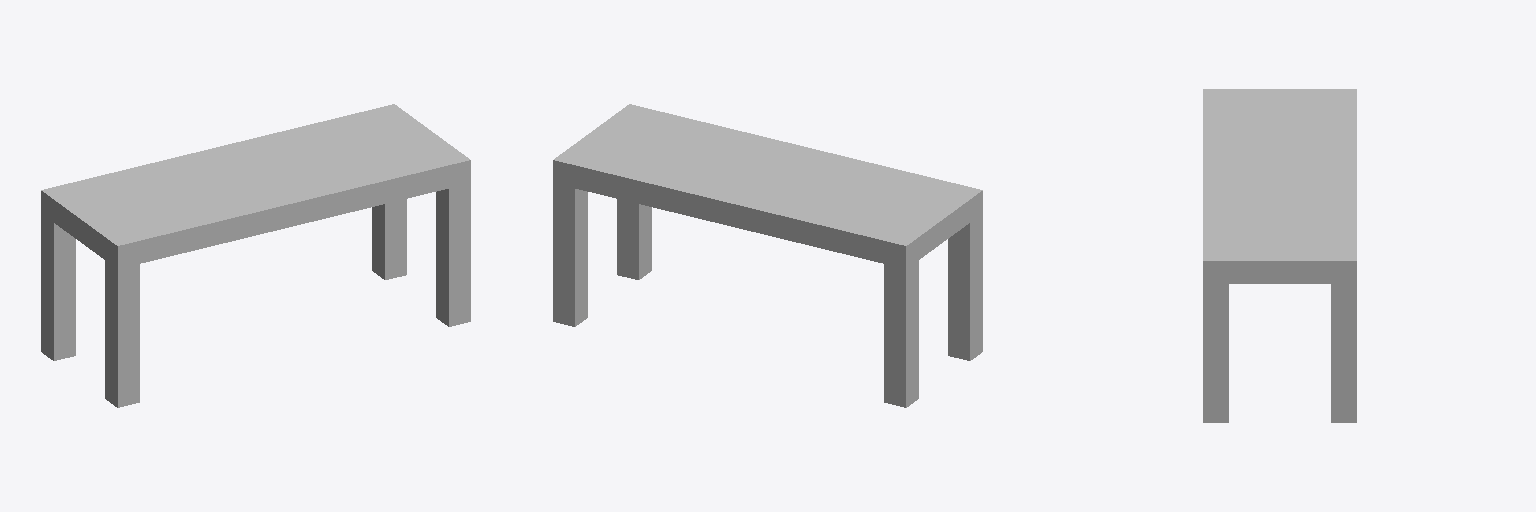
Rendered from Table.obj.
The picture shows the model from 3 angles: view 1: azimuth 30°, elevation 25°; view 2: azimuth 150°, elevation 25°; view 3: azimuth 270°, elevation 25°; orthographic projection.
Visible parts, largest first — view 1: Table; view 2: Table; view 3: Table.
Part boxes in pixels (bbox=[...]): Table: bbox=[41, 104, 470, 407]; Table: bbox=[553, 104, 982, 407]; Table: bbox=[1203, 89, 1356, 422].
Size of the model in its own units: 16 by 7 by 6.